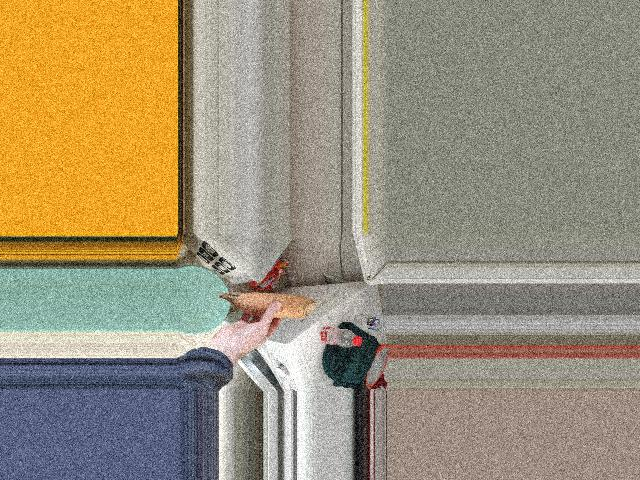sweet_potato: (217, 290, 319, 325)
